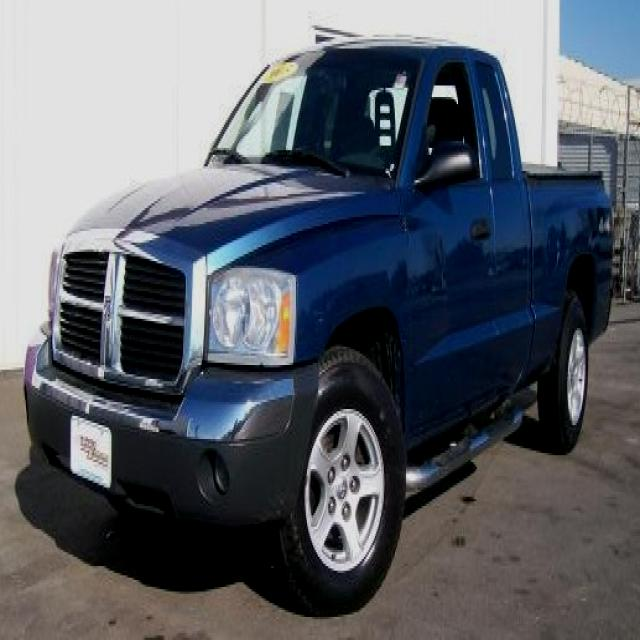CMT: (29, 35, 612, 602)
